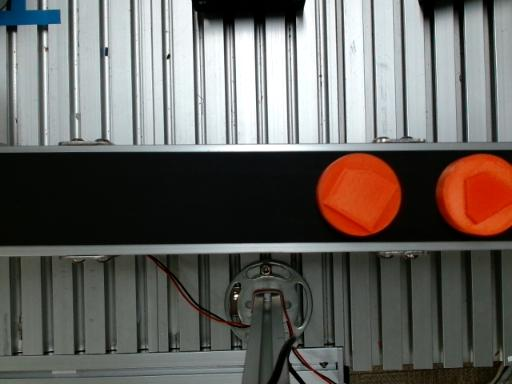Not_Square: (321, 167, 398, 231), (464, 170, 511, 225)
Orange_Waper: (317, 154, 402, 235), (435, 154, 511, 236)
